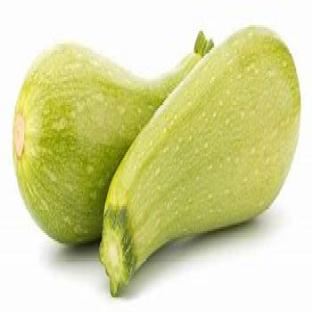Zucchini: (100, 28, 300, 295), (14, 34, 213, 243)
